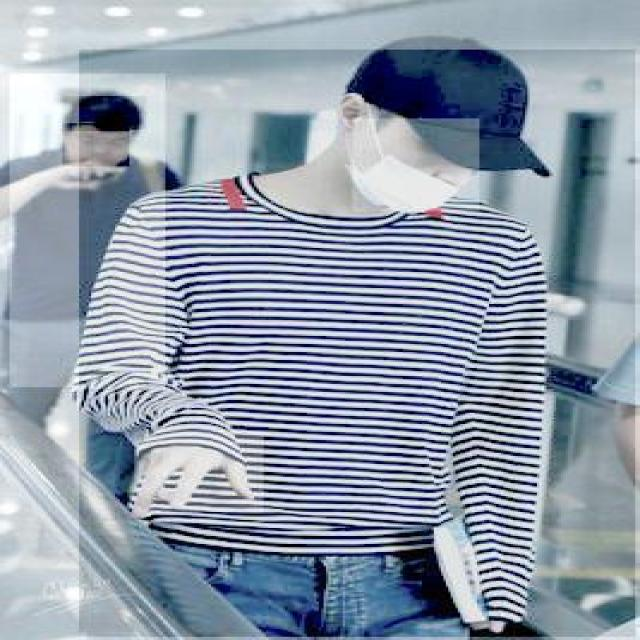face_mask: (352, 118, 480, 212)
face_nomask: (62, 123, 132, 168)
hand_noglove: (134, 431, 266, 514)
head_nohelmet: (344, 38, 564, 174), (62, 96, 149, 131)
person: (79, 49, 638, 638), (10, 74, 166, 388)
